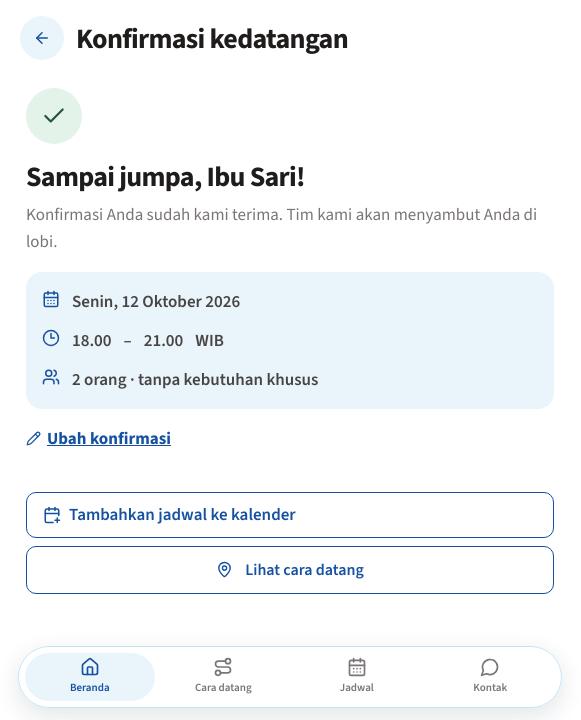
Test: lets a personal guest reopen their confirmation, with their name as a card
Expected: the heading "Sampai jumpa, Ibu Sari!" is shown, top-left (26, 158), bottom-right (305, 195)
Click the button "Ubah konfirmasi".
click(98, 439)  # box top-left (26, 425), bottom-right (171, 452)
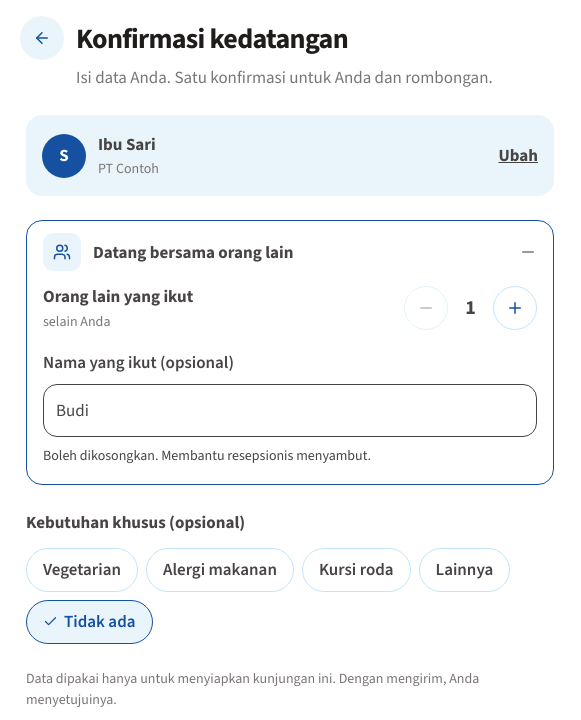
Now the text "PT Contoh" is shown, box top-left (98, 159), bottom-right (159, 178)
Now the field labelled "Nama yang ikut (opsional)" holds "Budi", box top-left (43, 384), bottom-right (537, 437)
